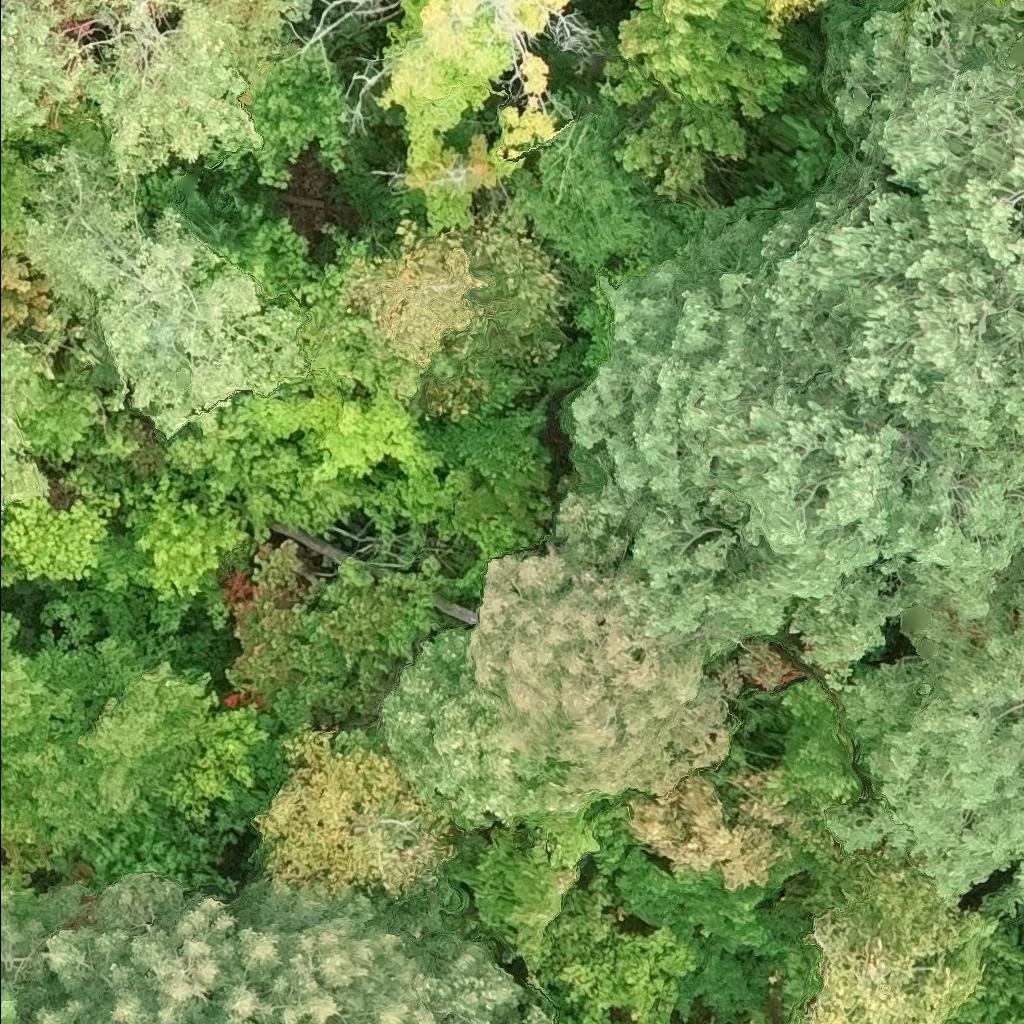crown: (573, 221, 1023, 682), (756, 0, 1023, 479), (386, 492, 727, 827), (17, 149, 307, 431), (830, 554, 1023, 903), (0, 631, 270, 854), (0, 0, 300, 190), (163, 363, 467, 541), (500, 88, 785, 270), (223, 877, 522, 1023), (0, 871, 280, 1023), (380, 0, 571, 222), (599, 0, 807, 199), (222, 542, 447, 725), (254, 730, 453, 901), (449, 799, 601, 982), (333, 218, 489, 388), (845, 844, 1000, 1013), (621, 770, 799, 889), (795, 909, 960, 1023), (518, 925, 706, 1023), (245, 43, 356, 186), (0, 466, 119, 586), (454, 405, 551, 549), (0, 614, 83, 767), (309, 0, 404, 128), (214, 190, 315, 309), (0, 343, 49, 510), (0, 135, 47, 258), (0, 255, 57, 349), (776, 677, 842, 740), (0, 944, 37, 1023), (0, 522, 26, 586), (489, 1001, 551, 1023), (758, 0, 825, 19), (286, 0, 315, 21), (1014, 0, 1023, 15)
